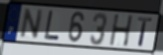3: (89, 11, 108, 47)
6: (67, 11, 86, 44)
H: (109, 14, 135, 48)
L: (43, 9, 62, 41)
N: (18, 7, 45, 40)
T: (136, 16, 154, 48)
